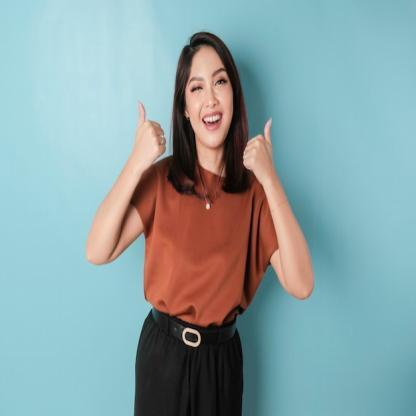thumb_up: (132, 97, 170, 168), (239, 112, 277, 179)
